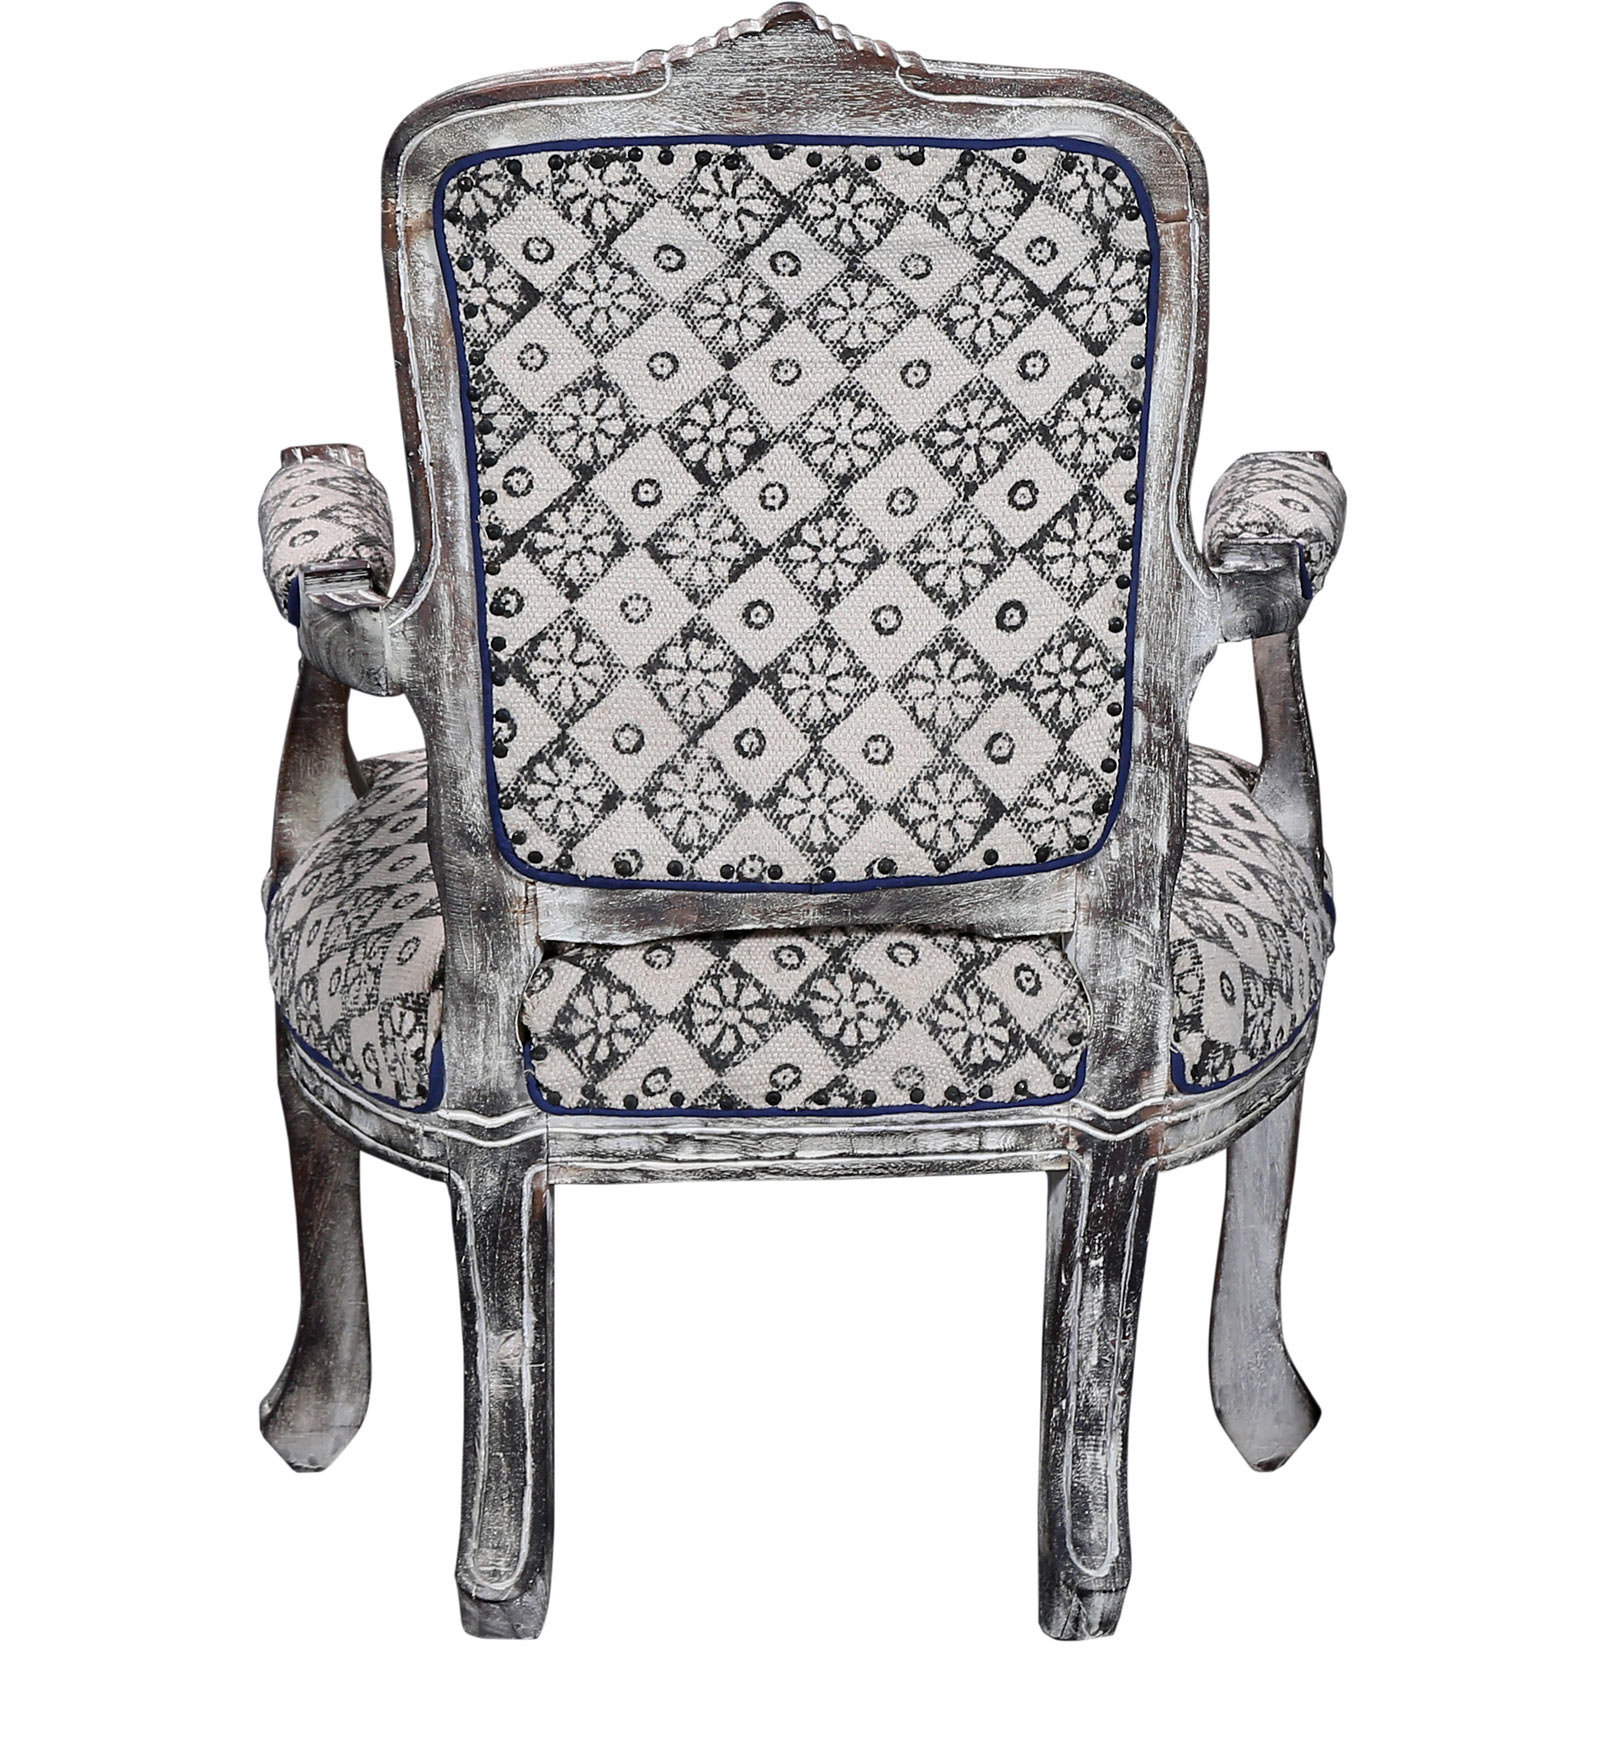Elton Arm Chair in Grey Colour by Bohemiana: (185, 2, 1431, 1709)
